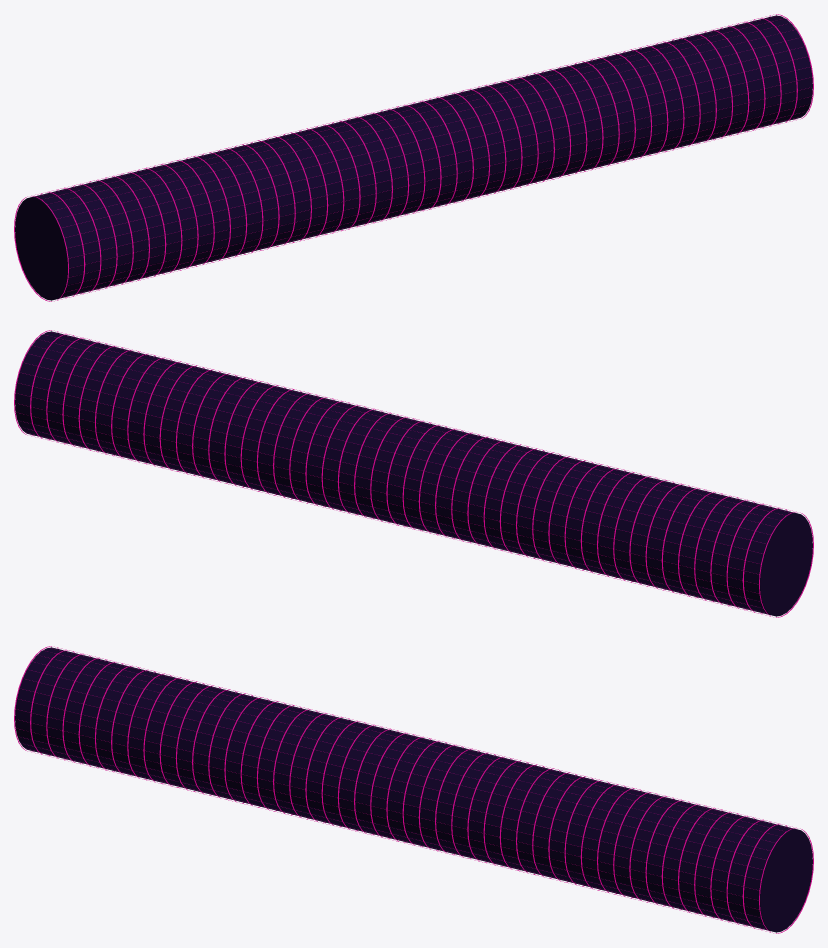
The picture shows the model from 3 angles, top to bottom: view 1: azimuth 30°, elevation 25°; view 2: azimuth 150°, elevation 25°; view 3: azimuth 330°, elevation 25°; orthographic projection.
Visible parts, largest first — view 1: Cylinder.001; view 2: Cylinder.001; view 3: Cylinder.001.
Boxes of the visible parts, bbox=[...] form: Cylinder.001: bbox=[14, 14, 813, 301]; Cylinder.001: bbox=[14, 330, 813, 617]; Cylinder.001: bbox=[14, 646, 813, 933].
Bounding box in the file's own units: 3.53 × 0.4443 × 0.4443.
